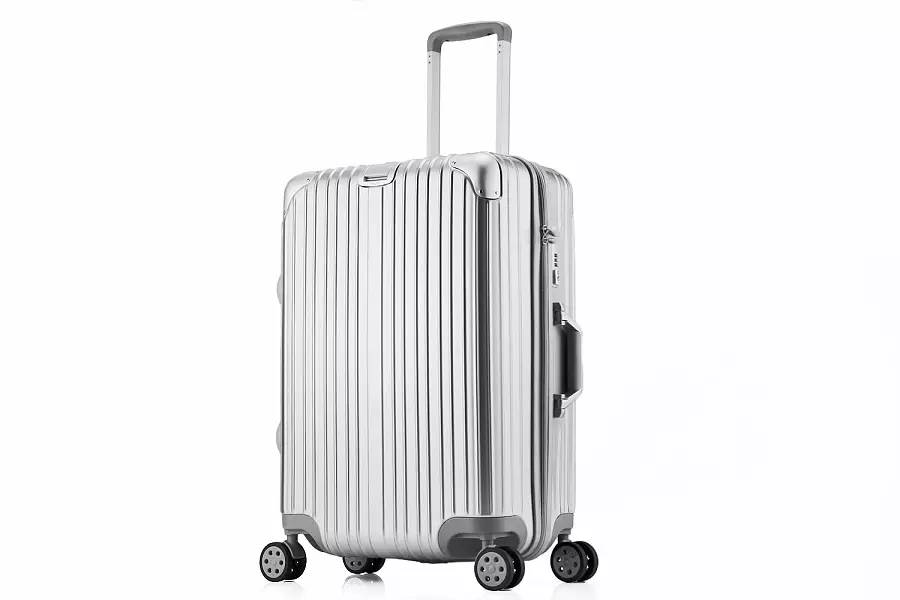luggage: (261, 20, 598, 590)
